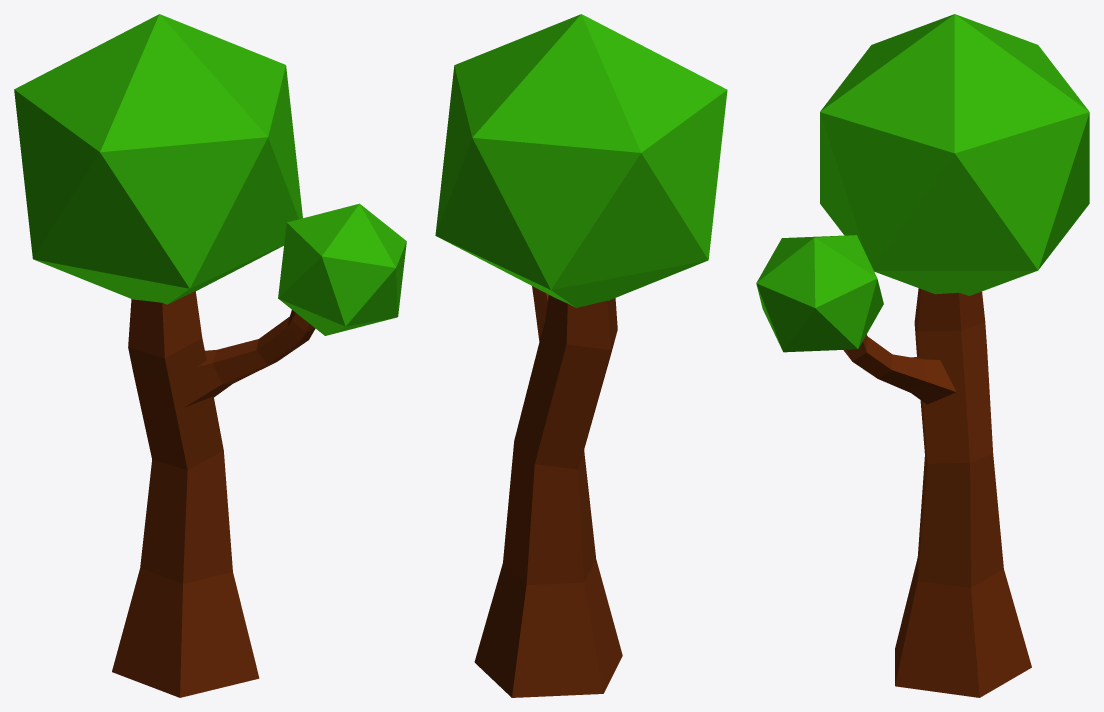
Rendered from tree.glb.
The picture shows the model from 3 angles, left to right: view 1: azimuth 30°, elevation 25°; view 2: azimuth 150°, elevation 25°; view 3: azimuth 270°, elevation 25°; orthographic projection. The views are drawn at different scales.
Parts seen in each view (by area): view 1: Icosphere.001; view 2: Icosphere.001; view 3: Icosphere.001.
Boxes of the visible parts, left/top/right/bottom form: Icosphere.001: left=14, top=14, right=406, bottom=697; Icosphere.001: left=435, top=14, right=727, bottom=697; Icosphere.001: left=756, top=14, right=1089, bottom=697.
Bounding box in the file's own units: 16.99 × 35.42 × 16.74.
